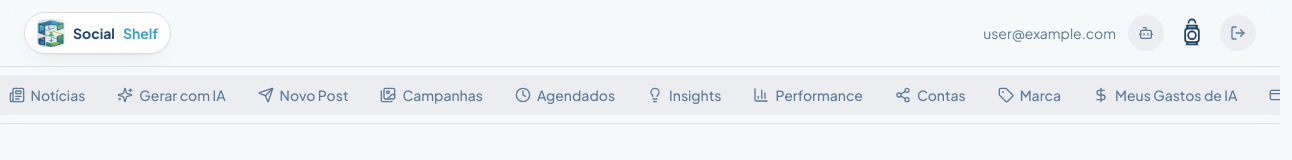
Test: TopNav - ícone de religar o Selfie › clicar no ícone depois de dispensado limpa a preferência salva
Click the button titled "Trazer o Selfie de volta": (1146, 33) [1128,15,1164,51]
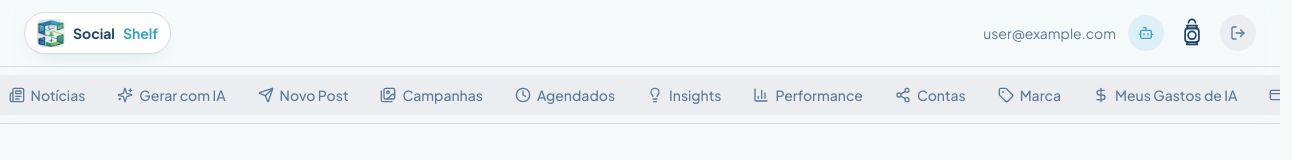
Expected: the button titled "Desligar o Selfie" is shown, [1128,15,1164,51]
